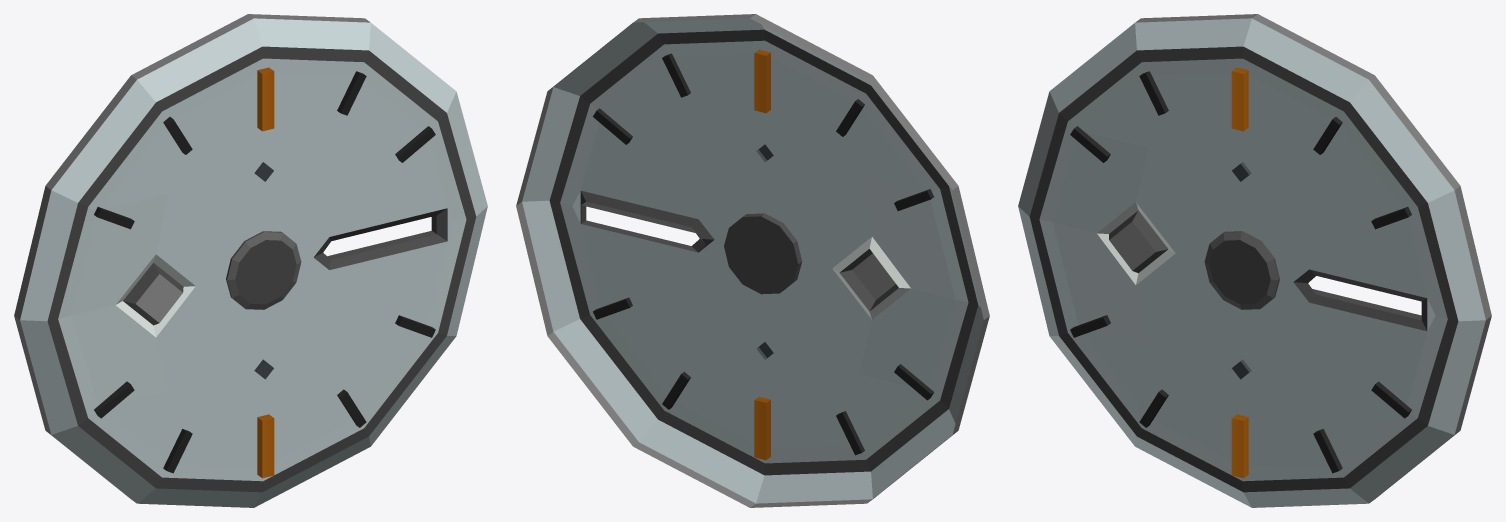
The model's file is CountdownTimerSciFiPointer.glb.
The picture shows the model from 3 angles, left to right: view 1: azimuth 30°, elevation 25°; view 2: azimuth 150°, elevation 25°; view 3: azimuth 330°, elevation 25°; orthographic projection.
Parts seen in each view (by area): view 1: Pointer; view 2: Pointer; view 3: Pointer.
Part boxes in pixels (box(x1,y1,x2,y2)): Pointer: box(14, 14, 487, 507); Pointer: box(516, 14, 989, 507); Pointer: box(1018, 14, 1491, 507).
Size of the model in its own units: 2.02 by 2.02 by 0.1518.
Materials: 2 (2 with a texture image).
